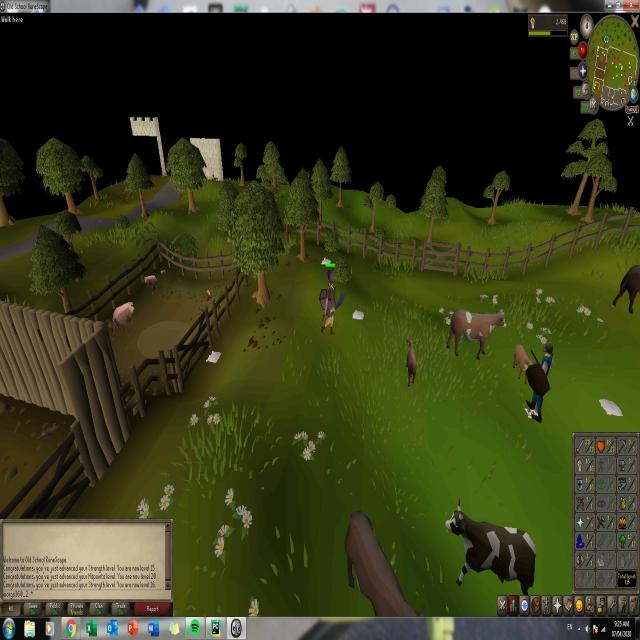cow: (446, 497, 536, 594), (344, 505, 424, 614), (447, 304, 508, 361), (612, 260, 638, 312)
